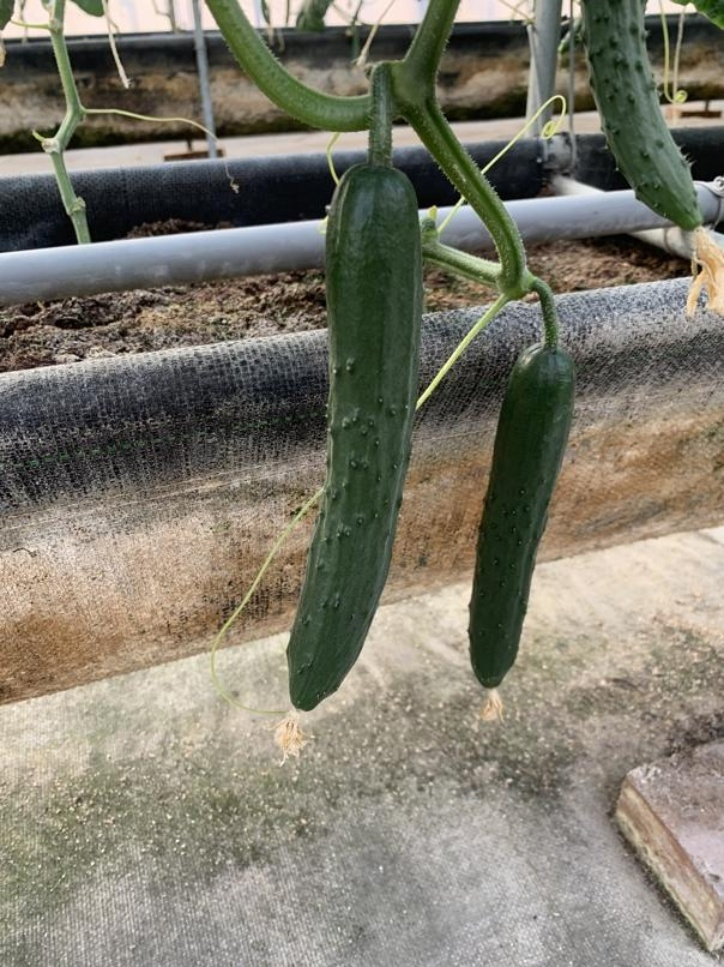mature: (244, 161, 432, 731), (459, 338, 580, 701)
